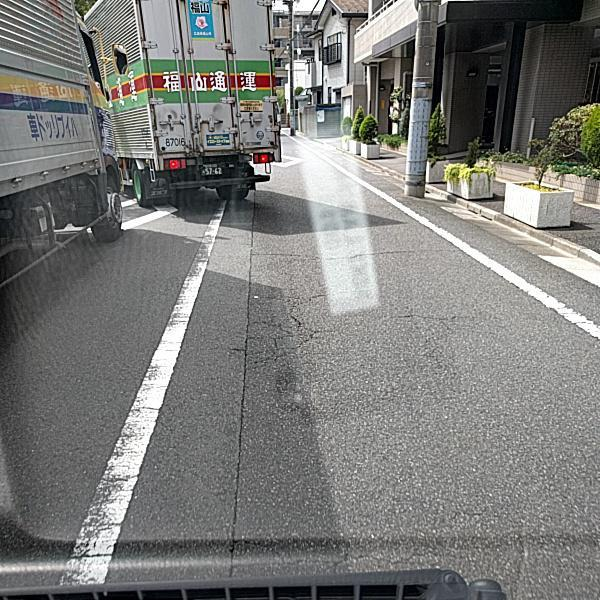D10: (251, 245, 454, 267), (394, 307, 486, 329)
D20: (231, 282, 330, 381)
D44: (59, 211, 218, 582)
